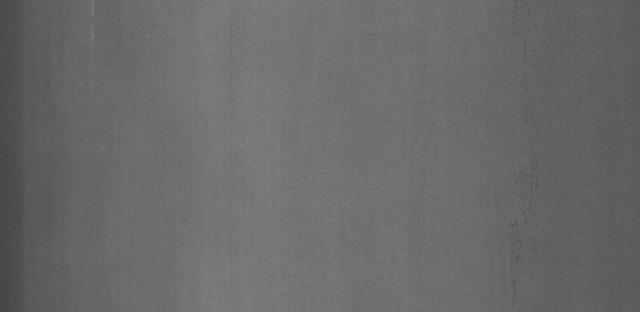silk_spot: (490, 91, 561, 287)
